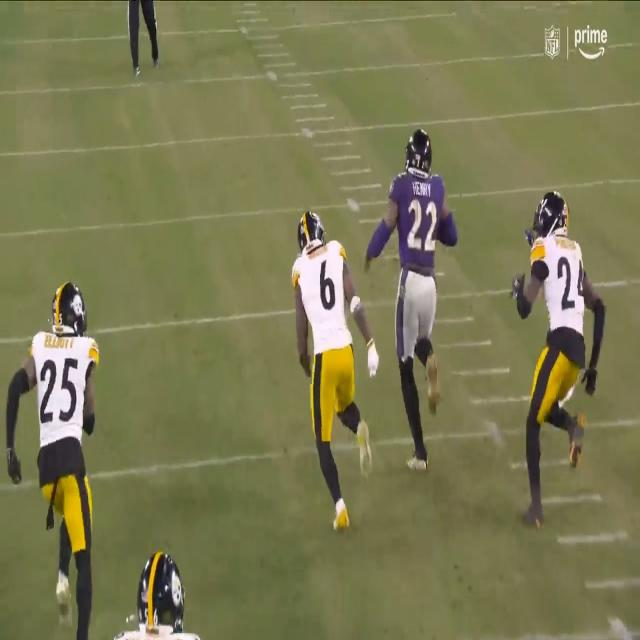Player: (290, 209, 368, 526), (519, 194, 591, 518), (33, 276, 99, 624), (390, 130, 441, 478)
